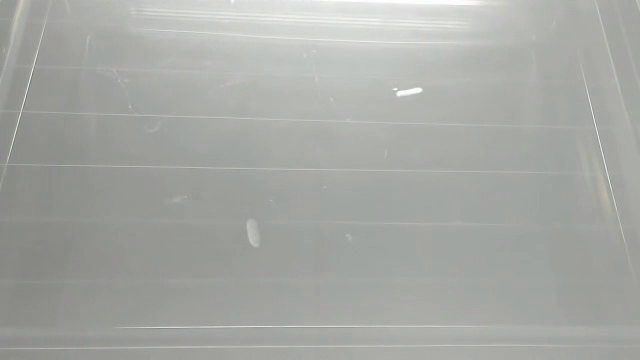alpha: (240, 212, 267, 253), (390, 86, 425, 98)
